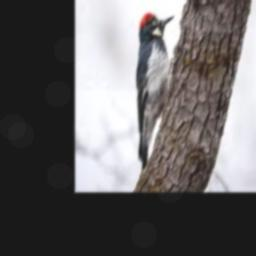Woodpecker: (136, 12, 174, 170)
